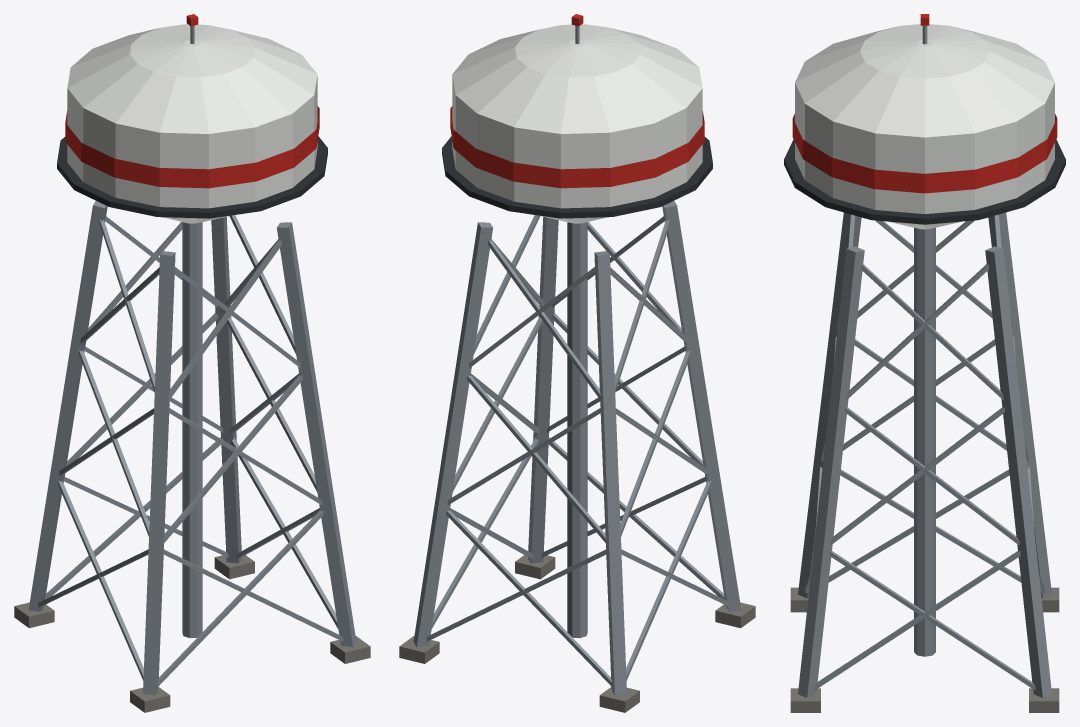
Rendered from Scenery_WaterTower.fbx.
3 views of the same model, side by side, from view 1: azimuth 30°, elevation 25°; view 2: azimuth 150°, elevation 25°; view 3: azimuth 270°, elevation 25° (orthographic). The views are drawn at different scales.
Parts seen in each view (by area): view 1: Scenery_WaterTower; view 2: Scenery_WaterTower; view 3: Scenery_WaterTower.
Boxes of the visible parts, left/top/right/bottom form: Scenery_WaterTower: left=14, top=14, right=370, bottom=712; Scenery_WaterTower: left=399, top=14, right=755, bottom=712; Scenery_WaterTower: left=784, top=14, right=1065, bottom=712.
Size of the model in its own units: 13 by 32.64 by 13.
